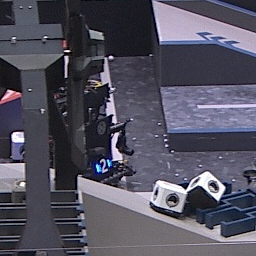Blue: (94, 157, 112, 173)
Robot: (44, 77, 134, 189)
